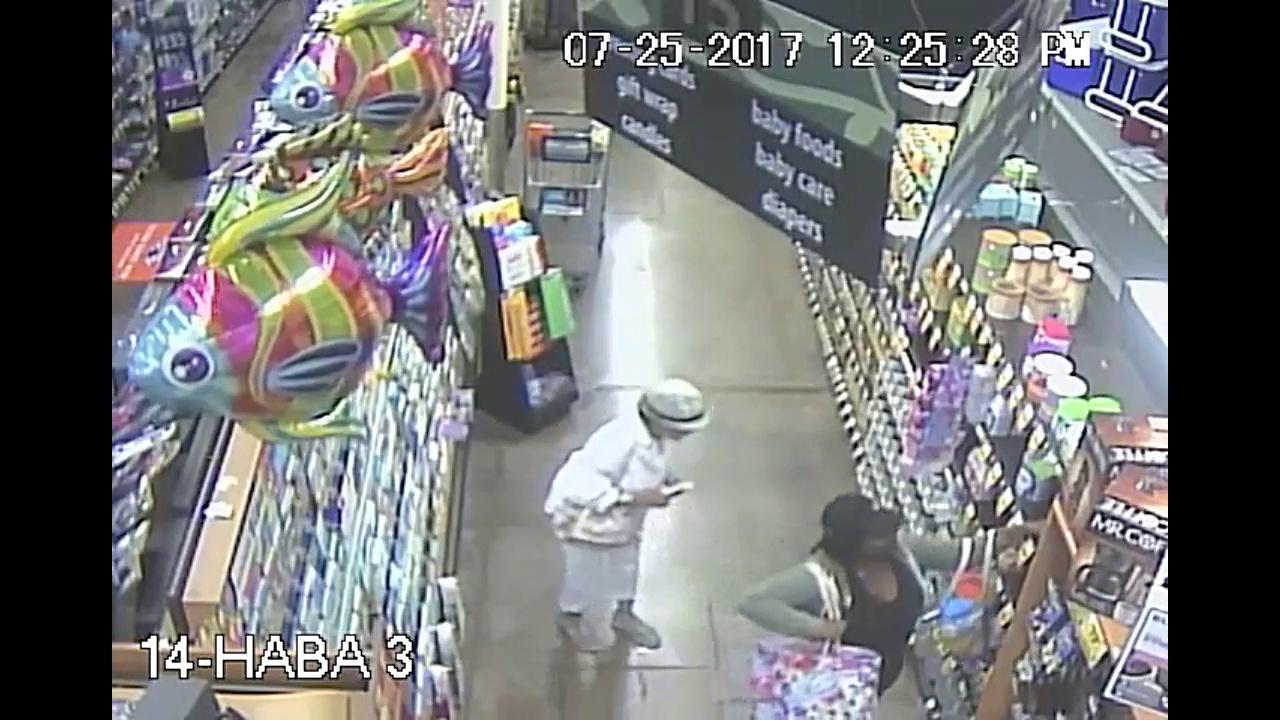2: (727, 474, 1053, 720)
3: (533, 320, 716, 687)
persone: (749, 610, 857, 720), (561, 490, 631, 556)
